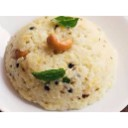venpongal: (5, 18, 118, 109)
